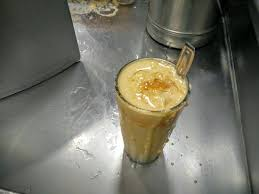jigirthanda: (116, 60, 193, 168)
